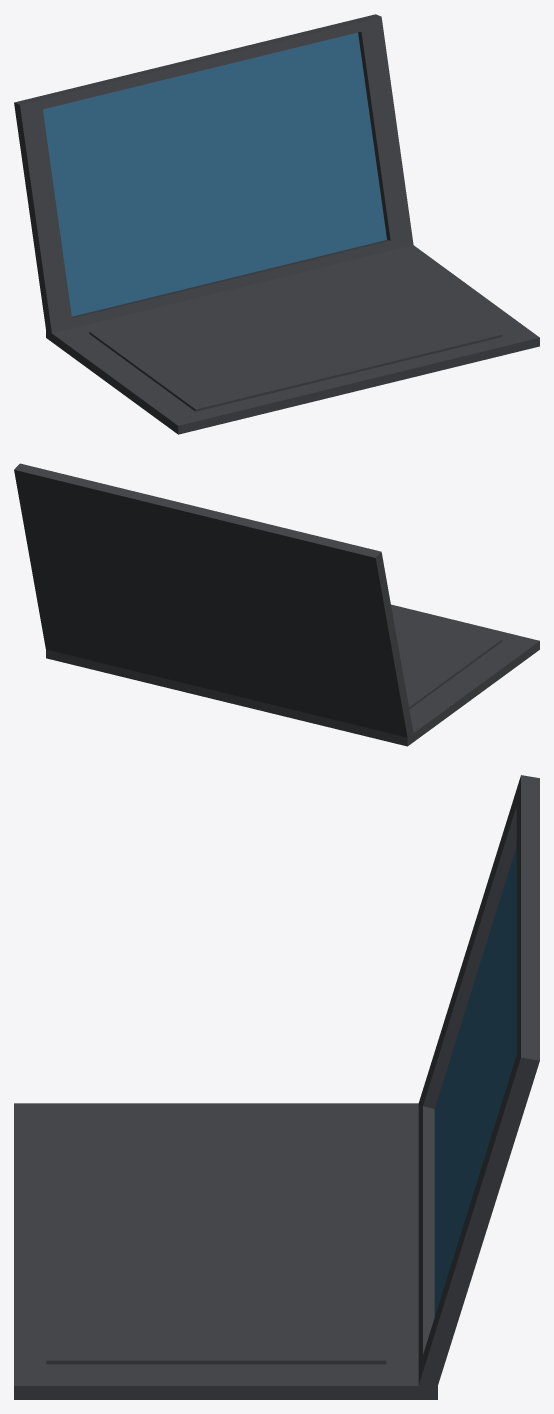
File: Notebook.fbx
3 renders of one model, top to bottom at view 1: azimuth 30°, elevation 25°; view 2: azimuth 150°, elevation 25°; view 3: azimuth 270°, elevation 25°, orthographic. The views are drawn at different scales.
Parts seen in each view (by area): view 1: notebook; view 2: notebook; view 3: notebook.
Part boxes in pixels (bbox=[...]): notebook: bbox=[14, 14, 539, 434]; notebook: bbox=[14, 463, 539, 746]; notebook: bbox=[14, 775, 539, 1399].
Bounding box in the file's own units: 52.48 × 29.65 × 41.29.
